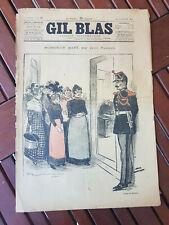paper: (16, 10, 161, 212)
